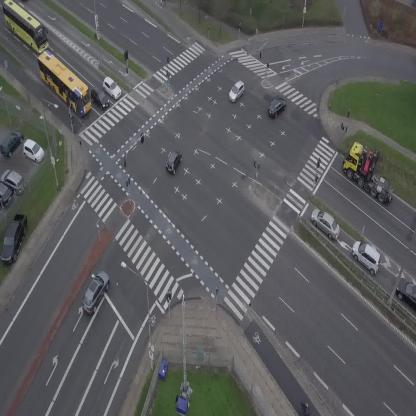bicycle: (298, 400, 312, 416), (68, 114, 75, 129), (159, 0, 166, 5)
bus: (29, 47, 101, 118)
car: (77, 268, 115, 317), (346, 236, 388, 277), (305, 205, 345, 242), (86, 84, 114, 111), (394, 278, 416, 310), (98, 75, 125, 101), (162, 147, 186, 176), (225, 79, 250, 105), (264, 95, 290, 120)
lorry: (335, 135, 400, 215)
